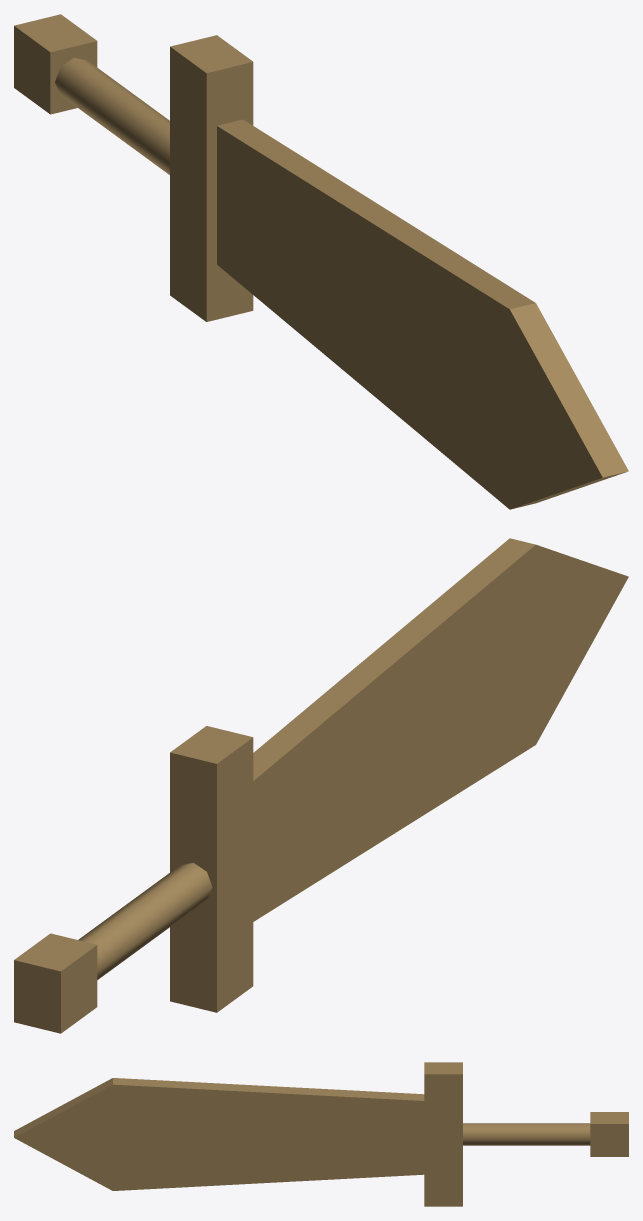
Rendered from TeddyHD_2.0_Weapon.fbx.
3 views of the same model, one above another, from view 1: azimuth 30°, elevation 25°; view 2: azimuth 150°, elevation 25°; view 3: azimuth 270°, elevation 25° (orthographic). The views are drawn at different scales.
Visible parts, largest first — view 1: Weapon; view 2: Weapon; view 3: Weapon.
Part boxes in pixels (left/top/right/bottom): Weapon: left=14, top=14, right=628, bottom=509; Weapon: left=14, top=538, right=628, bottom=1033; Weapon: left=14, top=1062, right=628, bottom=1206.
Bounding box in the file's own units: 11.13 × 238 × 56.44.
